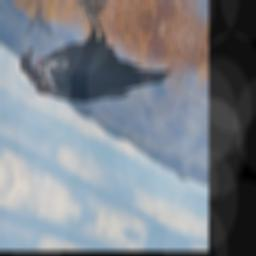Crow: (14, 0, 180, 148)
